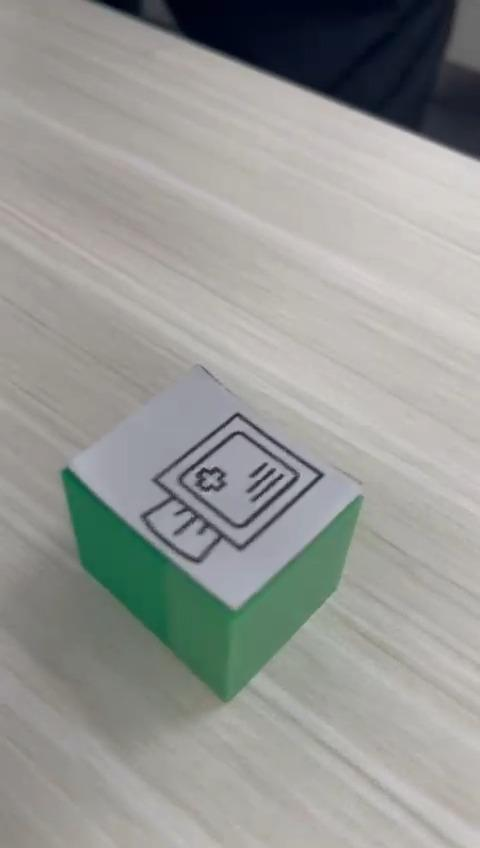Gauze: (59, 362, 364, 702)
